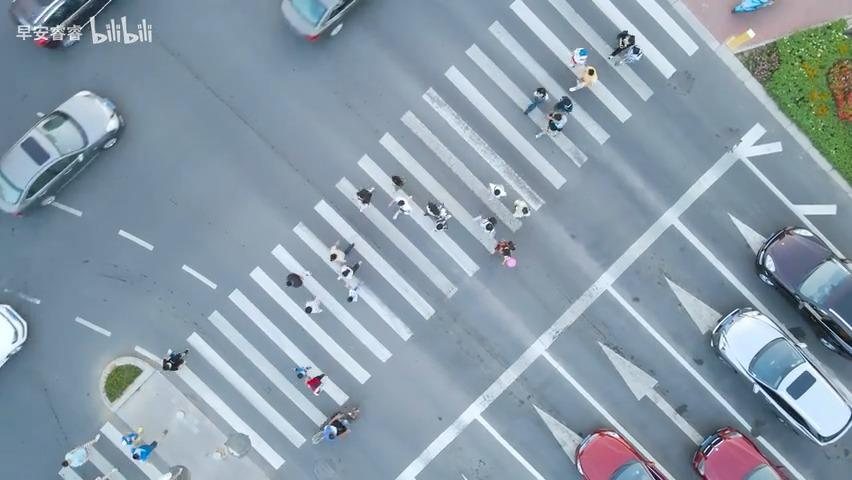Civilian: (61, 433, 100, 467), (535, 111, 567, 139), (424, 200, 451, 232), (607, 30, 638, 57), (523, 86, 549, 114), (490, 238, 516, 265), (61, 444, 90, 467), (471, 214, 497, 239), (329, 239, 354, 264), (162, 347, 189, 370), (614, 45, 643, 66), (732, 0, 775, 13), (132, 440, 157, 461), (336, 260, 362, 280), (327, 415, 350, 437), (285, 269, 311, 288), (305, 373, 326, 396), (355, 186, 375, 210), (391, 198, 412, 220), (120, 426, 143, 446), (576, 66, 597, 87), (568, 47, 588, 67), (512, 198, 530, 218), (554, 95, 573, 113), (487, 182, 506, 200), (425, 200, 445, 217), (304, 295, 322, 313), (346, 284, 360, 302), (292, 365, 311, 378), (391, 175, 406, 189)
